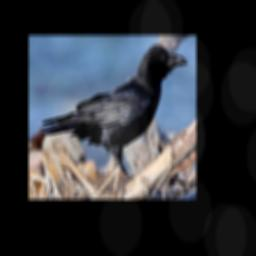Crow: (38, 44, 189, 181)
